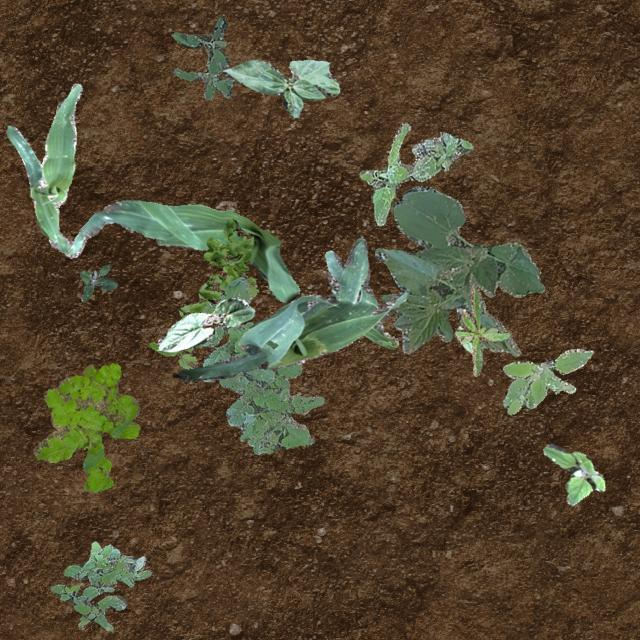crop: (172, 238, 406, 380), (374, 184, 544, 356), (78, 200, 298, 302), (5, 82, 86, 258), (222, 58, 338, 116), (156, 296, 254, 350), (456, 307, 472, 353)
weed: (199, 276, 323, 454), (148, 218, 258, 368), (33, 362, 138, 492), (358, 122, 472, 225), (50, 540, 150, 630), (502, 348, 592, 413), (170, 15, 234, 99), (454, 286, 510, 376), (542, 442, 604, 504), (78, 264, 116, 300)
